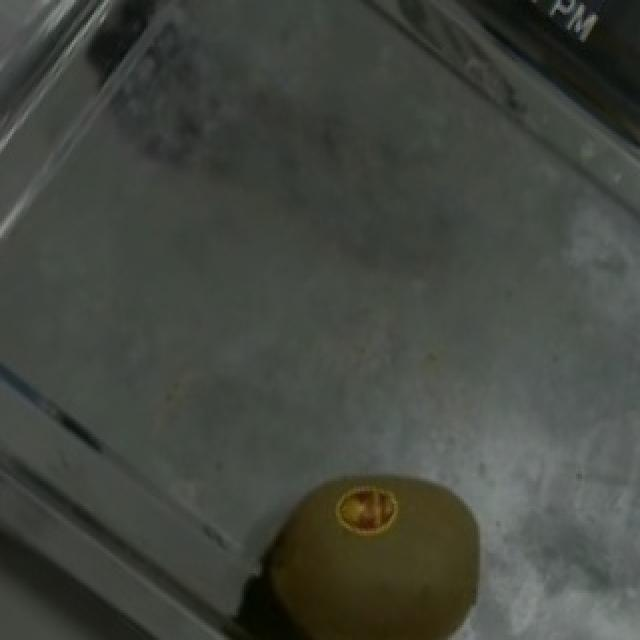Fruit: (218, 451, 510, 640)
